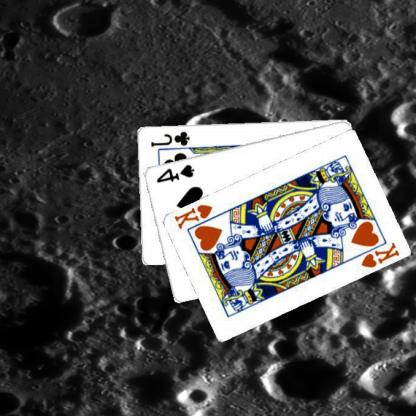4S: (155, 162, 197, 184)
JC: (149, 128, 192, 148)
KH: (359, 240, 402, 270), (173, 201, 215, 230)
